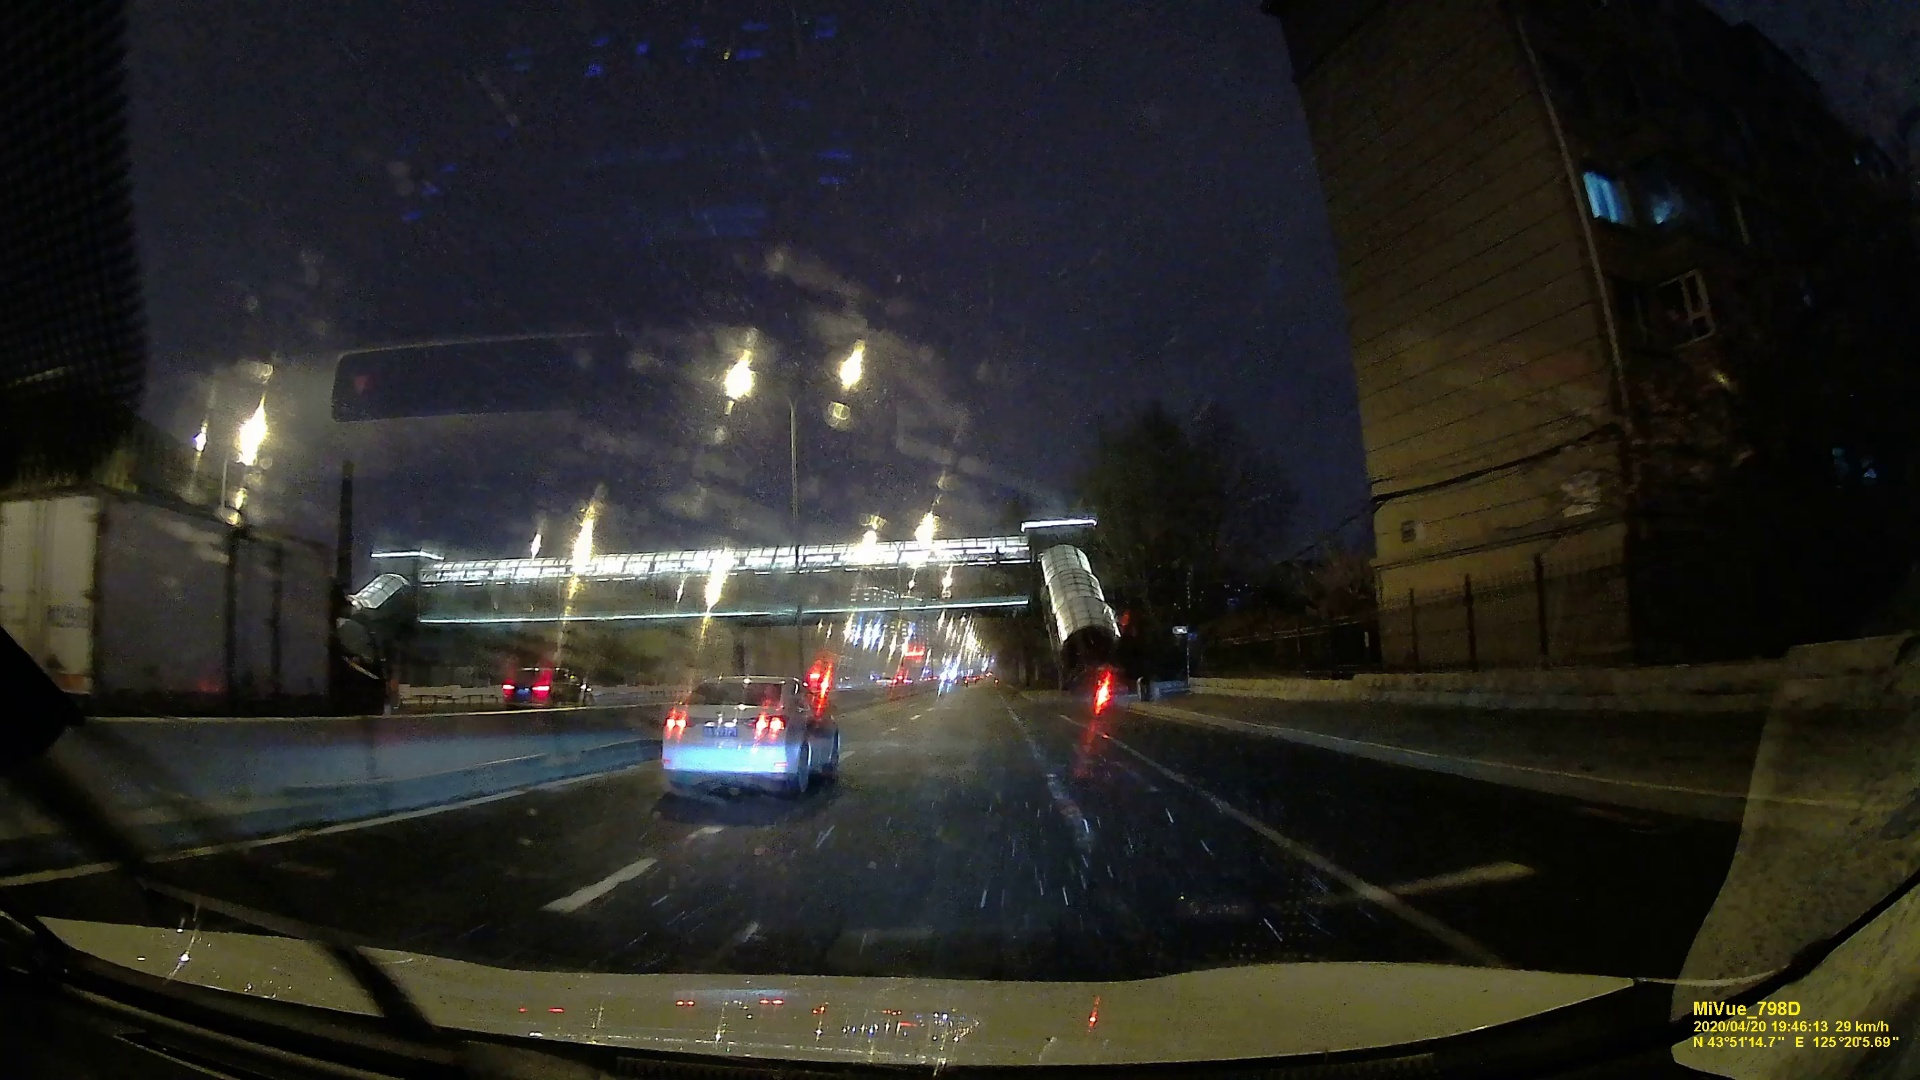truck: (15, 497, 401, 737)
vehicle: (659, 674, 840, 794), (502, 663, 596, 708)
